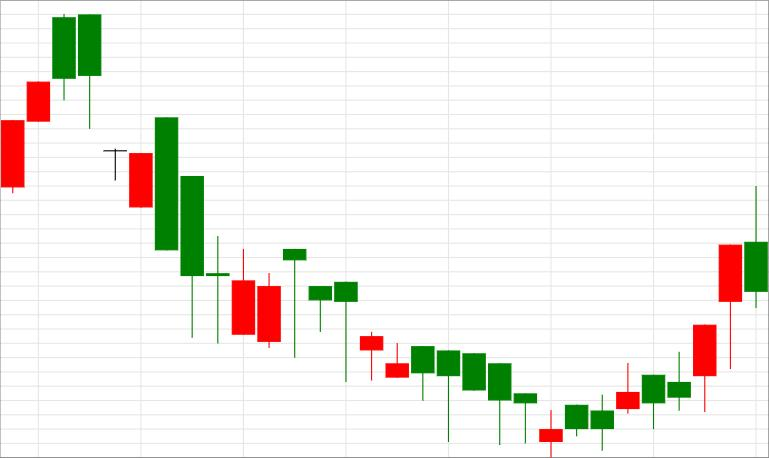hammer_rise: (283, 248, 511, 444), (283, 249, 459, 443)
